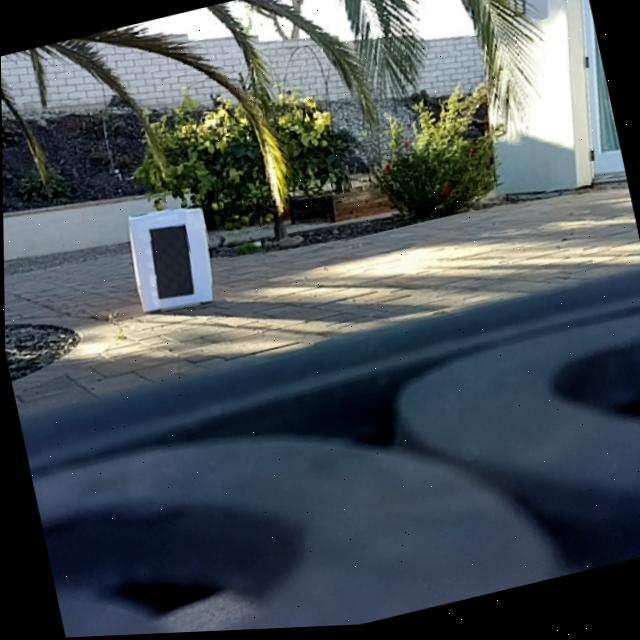led: (144, 221, 201, 306)
